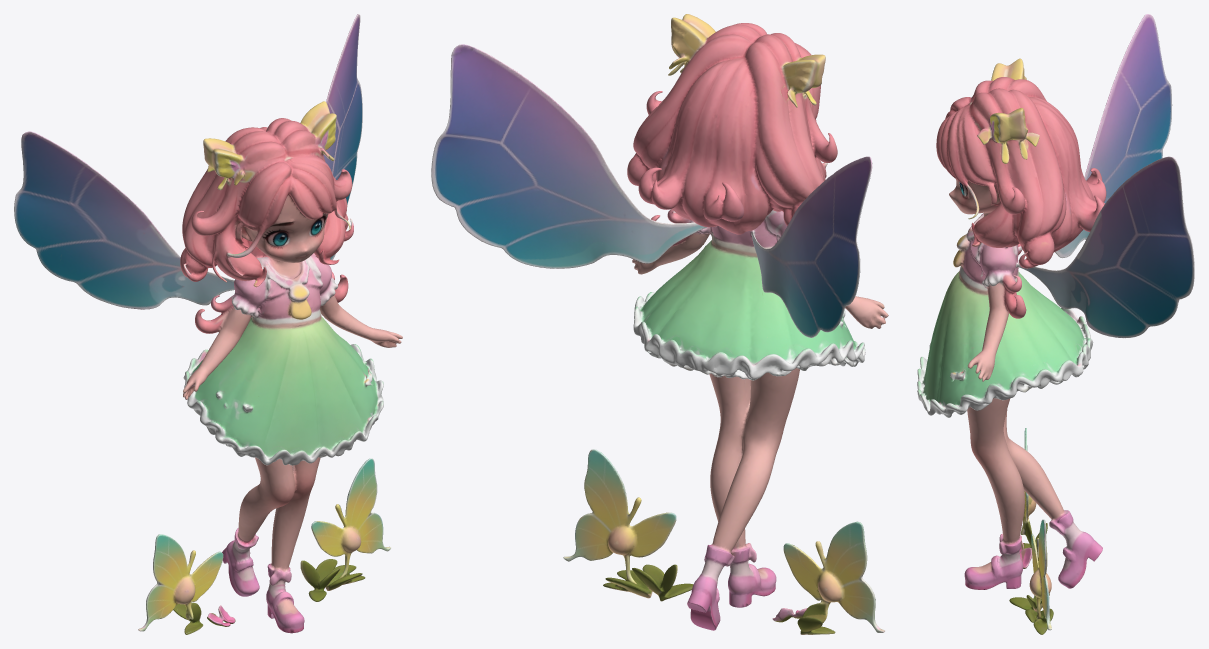
The model's file is Meshy_AI_Petalwing_Pixie_1014110341_texture.fbx.
The picture shows the model from 3 angles, left to right: view 1: azimuth 30°, elevation 25°; view 2: azimuth 150°, elevation 25°; view 3: azimuth 270°, elevation 25°; orthographic projection. The views are drawn at different scales.
Visible parts, largest first — view 1: Mesh_0; view 2: Mesh_0; view 3: Mesh_0.
Part boxes in pixels (box(x1,y1,x2,y2)): Mesh_0: box(14, 14, 402, 634); Mesh_0: box(431, 14, 888, 634); Mesh_0: box(917, 14, 1194, 634).
Bounding box in the file's own units: 142 × 190 × 93.97.
Materials: 1 (1 with a texture image).
